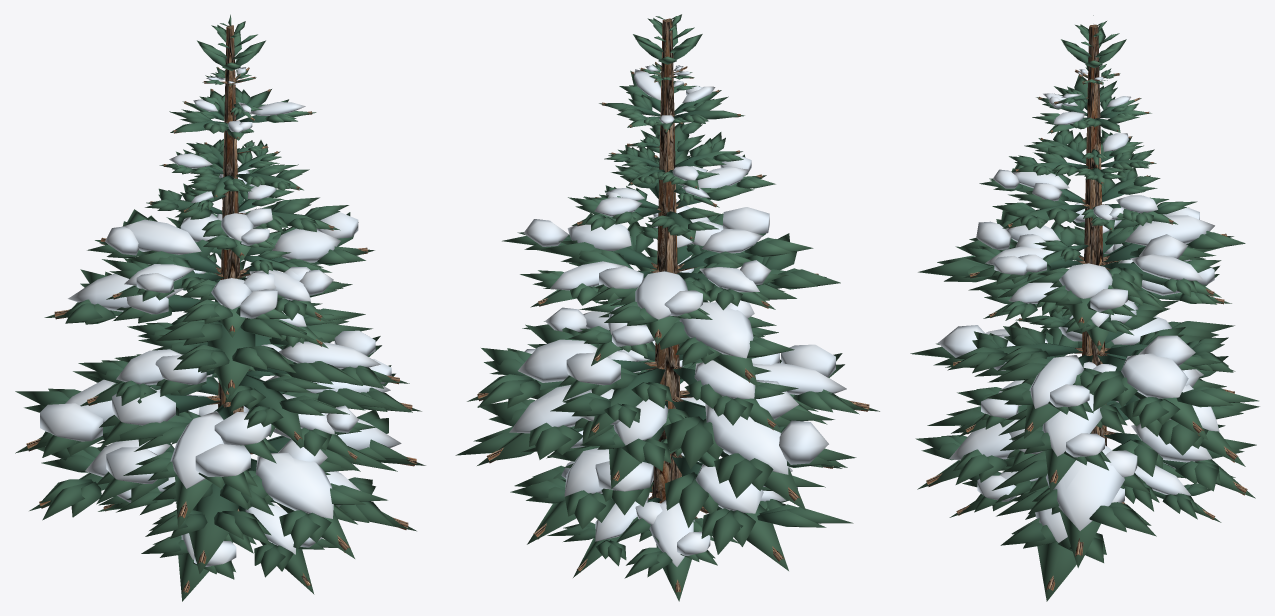
Rendered from tree12.glb.
3 views of the same model, side by side, from view 1: azimuth 30°, elevation 25°; view 2: azimuth 150°, elevation 25°; view 3: azimuth 270°, elevation 25° (orthographic). The views are drawn at different scales.
Visible parts, largest first — view 1: Alpine12_1 (×2), Alpine12_2 (×2), Alpine12_0 (×2); view 2: Alpine12_1 (×2), Alpine12_2 (×2), Alpine12_0 (×2); view 3: Alpine12_1 (×2), Alpine12_2 (×2), Alpine12_0 (×2).
Boxes of the visible parts, x1,y1,x2,y2 form: Alpine12_1 (×2): (15,14,425,601); Alpine12_2 (×2): (40,67,401,566); Alpine12_0 (×2): (26,25,416,592); Alpine12_1 (×2): (455,14,879,601); Alpine12_2 (×2): (509,65,846,566); Alpine12_0 (×2): (477,18,869,592); Alpine12_1 (×2): (910,15,1259,601); Alpine12_2 (×2): (938,69,1219,542); Alpine12_0 (×2): (926,24,1247,590).
Size of the model in its own units: 6.06 by 8.22 by 5.16.
6 materials, 2 textured.
